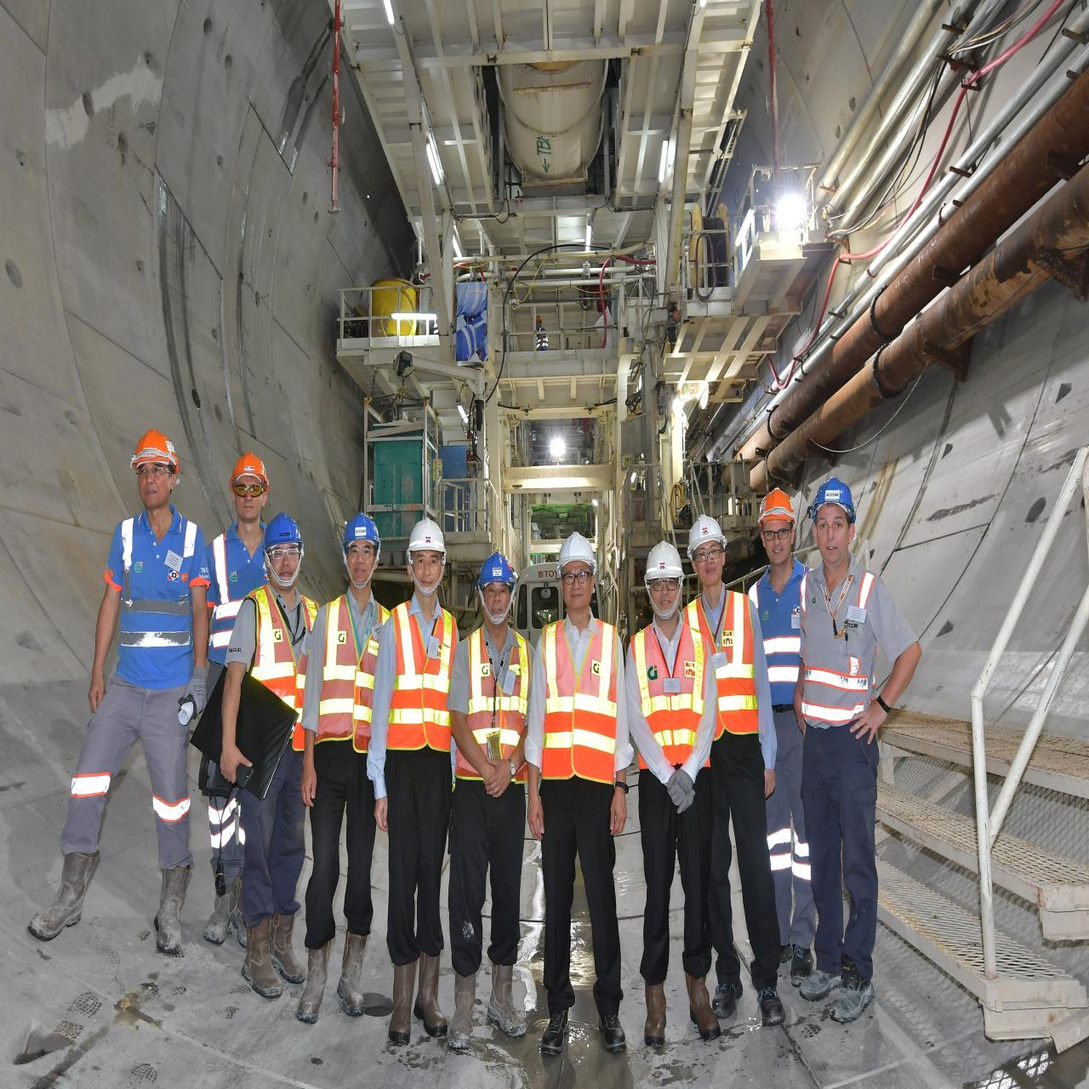NO_Safety_Vest: (737, 472, 817, 985), (110, 517, 195, 694), (808, 569, 877, 731), (210, 527, 272, 666)
Person: (48, 411, 208, 963), (808, 479, 916, 1009), (528, 522, 631, 1054), (683, 510, 779, 1026), (224, 500, 321, 971), (196, 418, 277, 952), (306, 514, 390, 1021), (384, 507, 454, 1046), (458, 541, 529, 1055), (634, 539, 698, 1046), (757, 486, 807, 987)
Safety_Vest: (540, 616, 619, 796), (248, 589, 315, 753), (687, 596, 761, 740), (634, 619, 703, 770), (318, 589, 383, 747), (459, 630, 527, 780), (392, 598, 451, 758), (755, 564, 802, 704)
